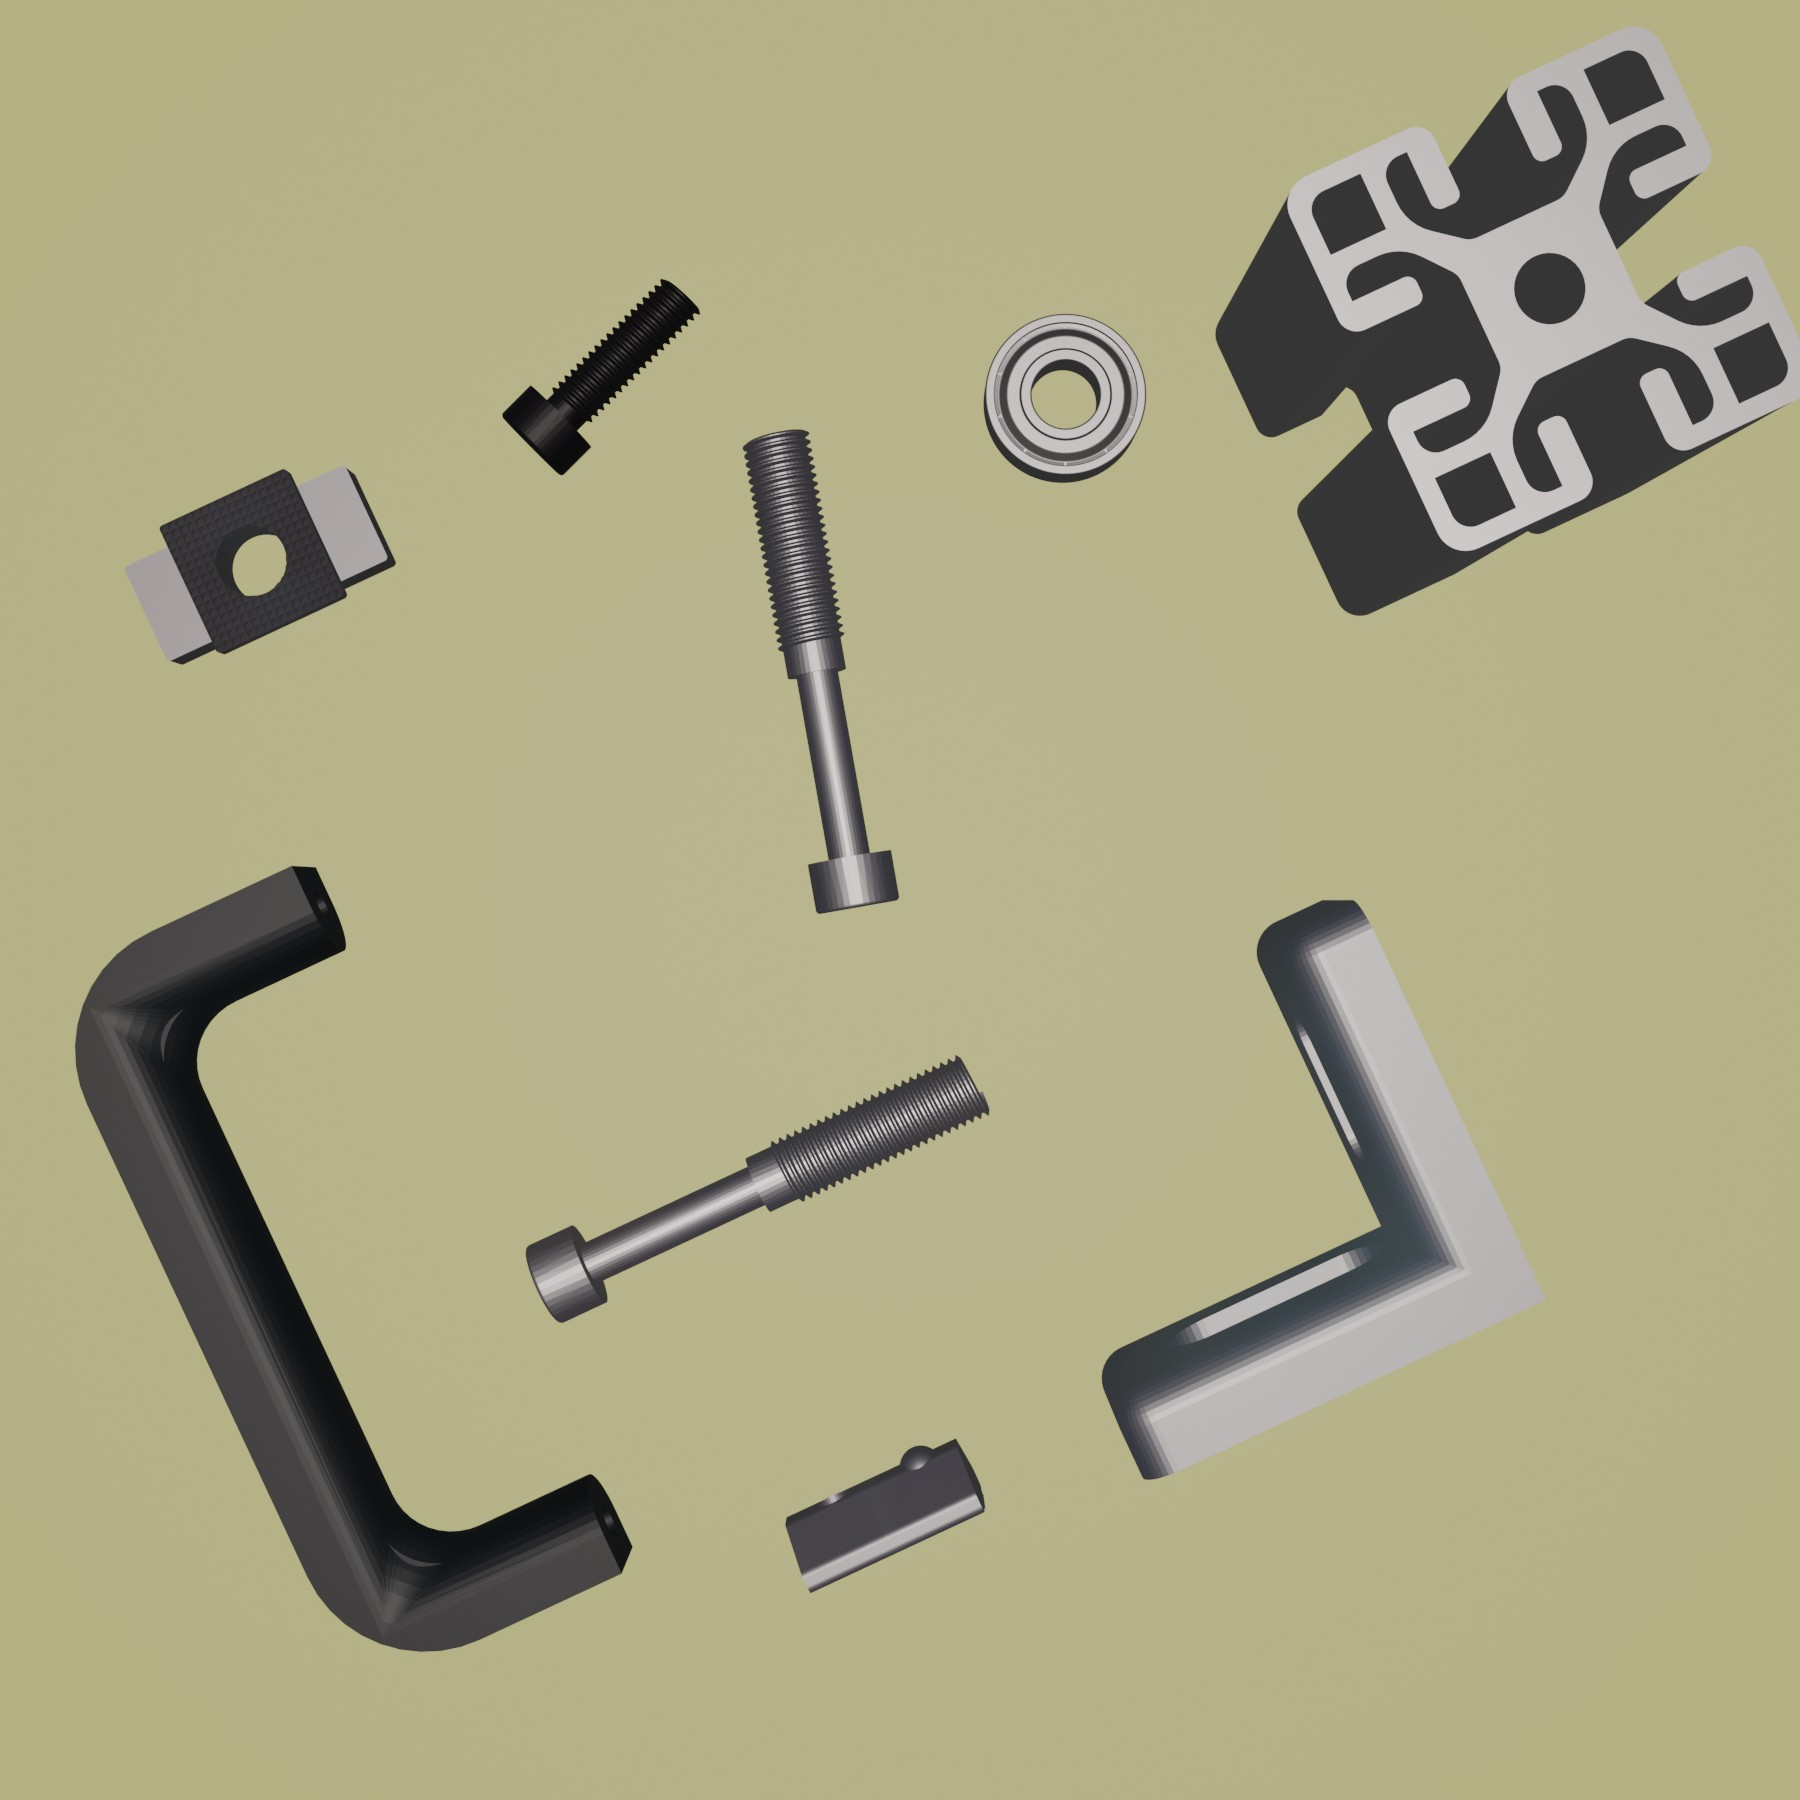Aluminium Extension: (1212, 31, 1800, 620)
Ball Bearing: (981, 312, 1151, 486)
Multiwinkel: (1099, 892, 1556, 1480)
Pull Handle: (69, 864, 636, 1653)
Shoulder Socket Head Cap Screw: (523, 1057, 994, 1327), (738, 424, 902, 920)
Socket Head Cap Screw: (499, 277, 702, 476)
T Nut Square: (120, 458, 397, 668)
T Spring Nut: (783, 1432, 991, 1596)
